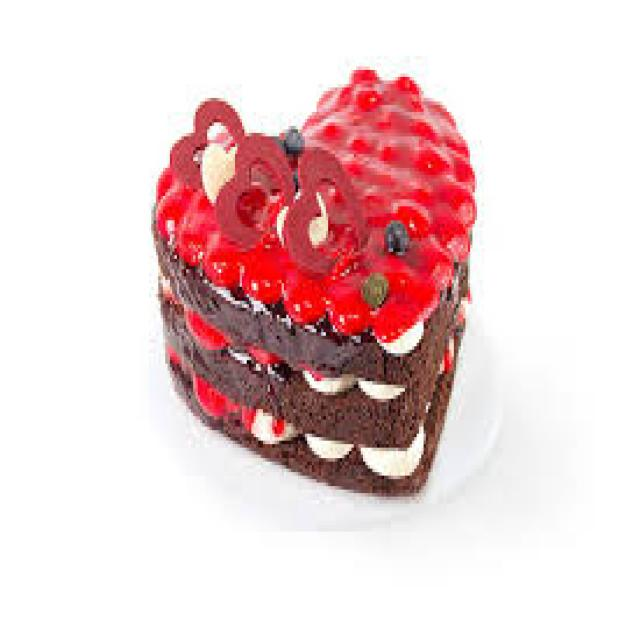Wet Waste: (104, 48, 552, 518)
